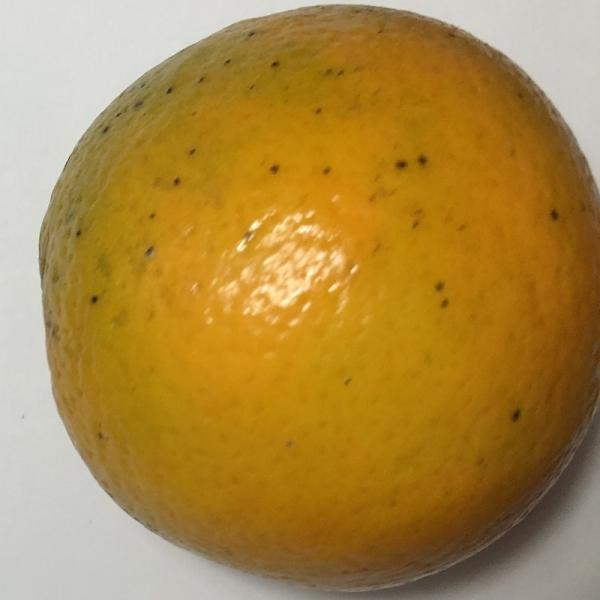Machas negras: (34, 0, 598, 584)
